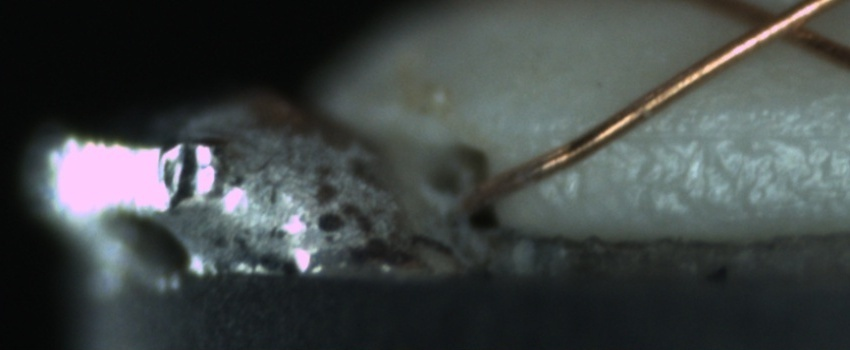CL: (732, 1, 828, 54)
DL: (574, 99, 844, 163)
